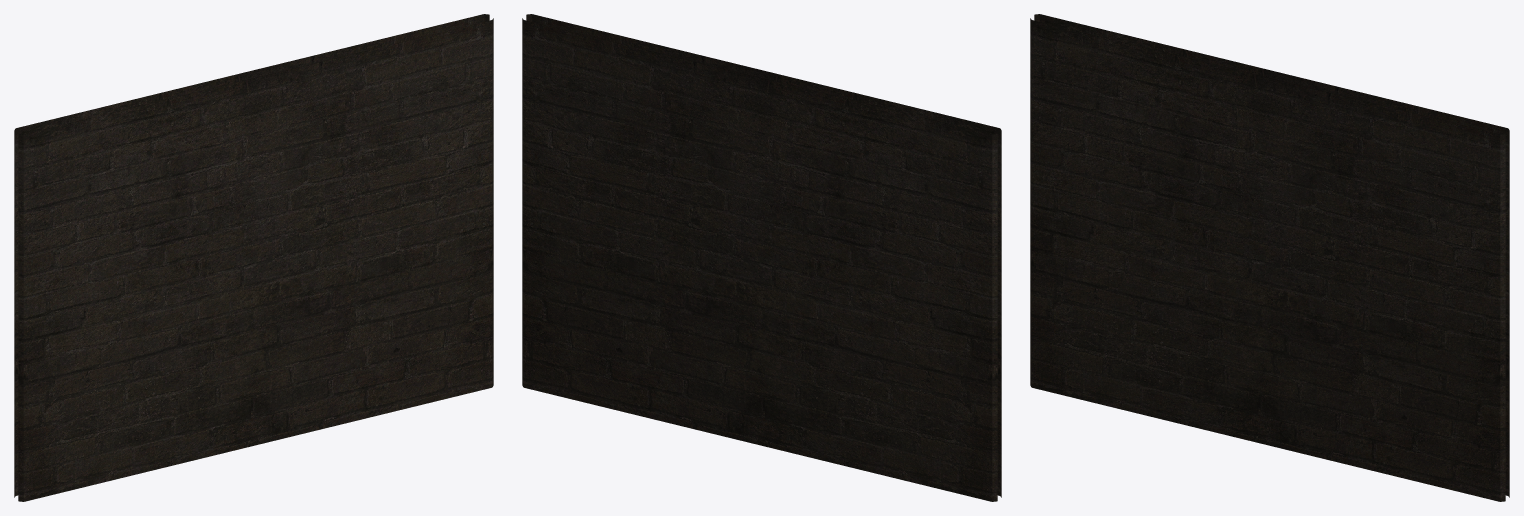
Rendered from wall_1_plain.glb.
The picture shows the model from 3 angles, left to right: view 1: azimuth 30°, elevation 25°; view 2: azimuth 150°, elevation 25°; view 3: azimuth 330°, elevation 25°; orthographic projection.
Parts seen in each view (by area): view 1: wall_1_plain; view 2: wall_1_plain; view 3: wall_1_plain.
Part boxes in pixels (x1,y1,x2,y2): wall_1_plain: (14, 14, 493, 501); wall_1_plain: (522, 14, 1001, 501); wall_1_plain: (1030, 14, 1509, 501).
Bounding box in the file's own units: 4.06 × 3 × 0.12.
1 material, 1 textured.
